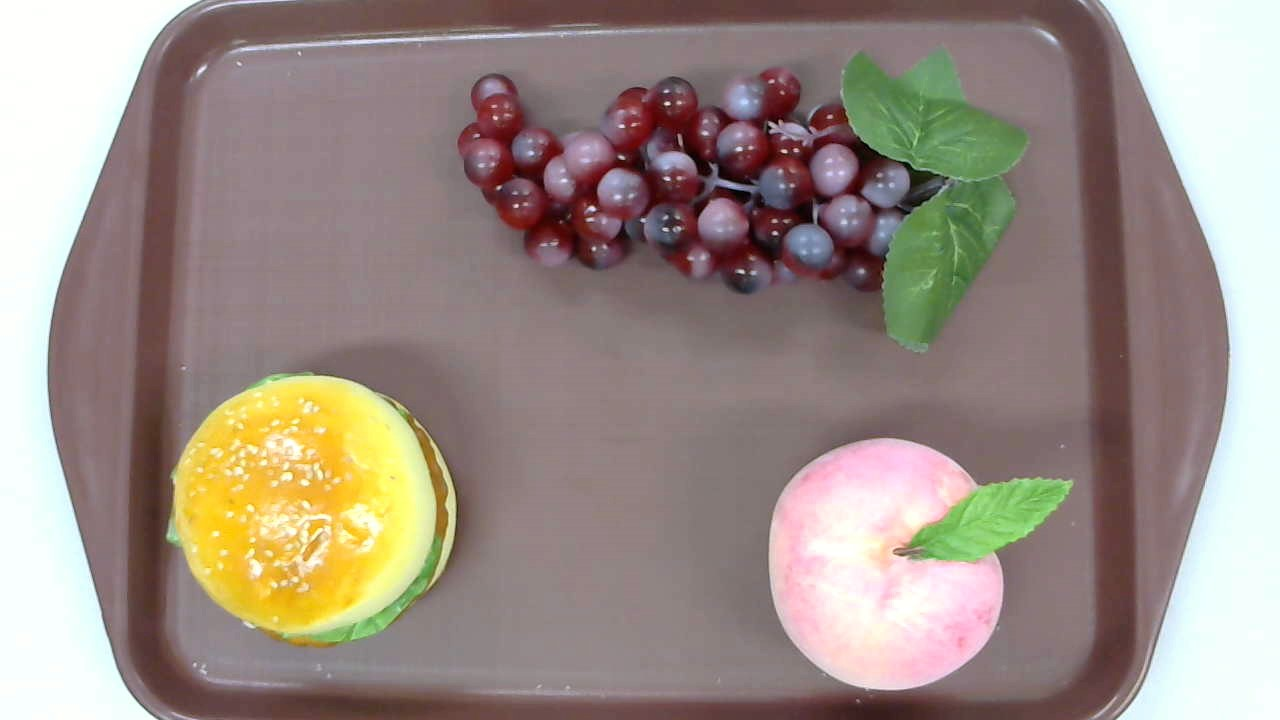grape: (457, 42, 1030, 354)
hamburger: (166, 372, 459, 650)
peach: (769, 436, 1073, 691)
